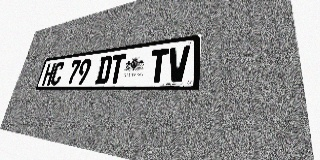7: (65, 59, 82, 85)
9: (76, 58, 93, 85)
C: (50, 62, 65, 85)
D: (95, 55, 113, 84)
H: (42, 63, 56, 86)
T: (148, 48, 170, 83), (108, 53, 127, 84)
V: (167, 45, 190, 82)
